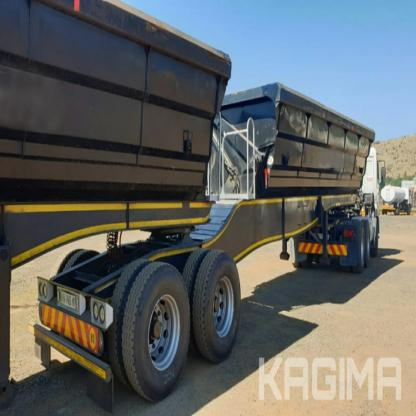dump_truck: (1, 1, 389, 403)
